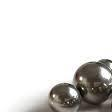ironball: (74, 61, 111, 103), (46, 81, 81, 111), (97, 57, 112, 69)
